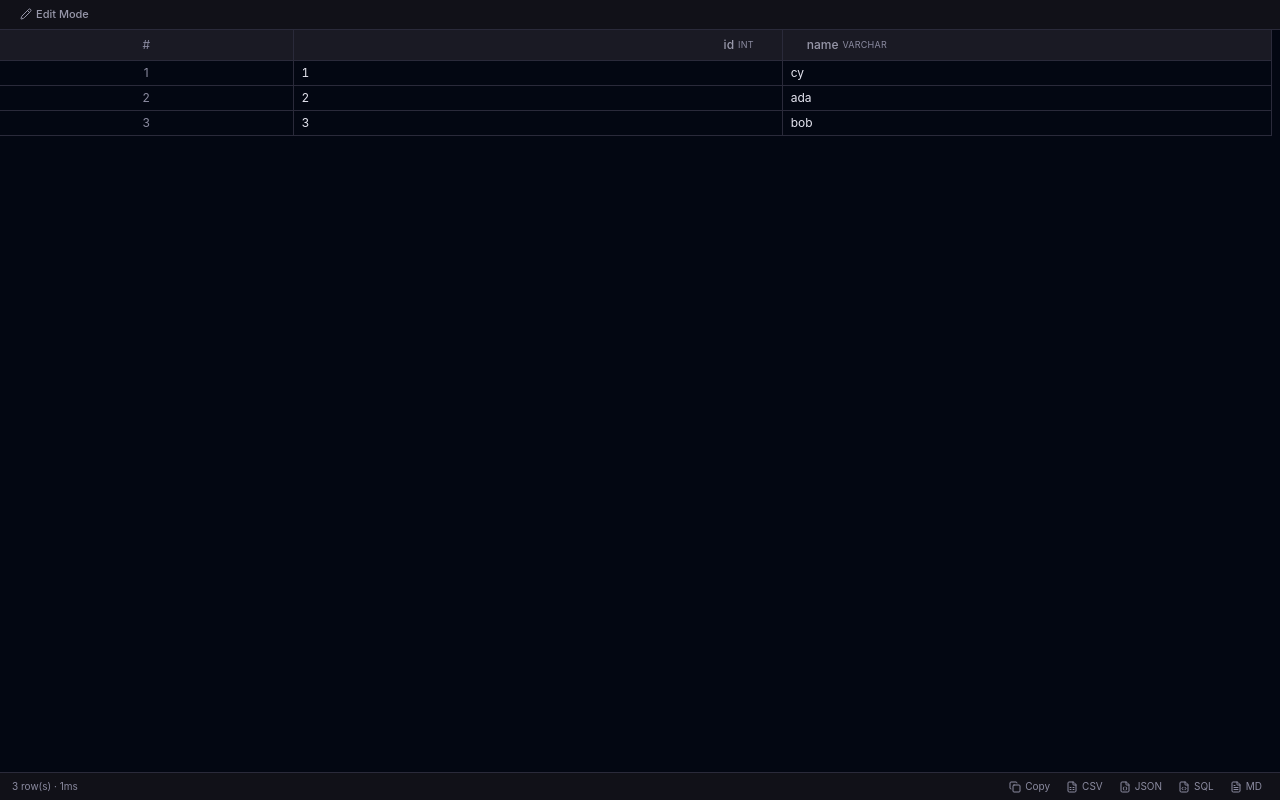
it: the focused cell (#852) › edits the focused cell on Enter or F2 in Edit Mode, and the arrows carry on after
Click the button "Edit Mode" at (54, 14), box [12, 4, 97, 24]
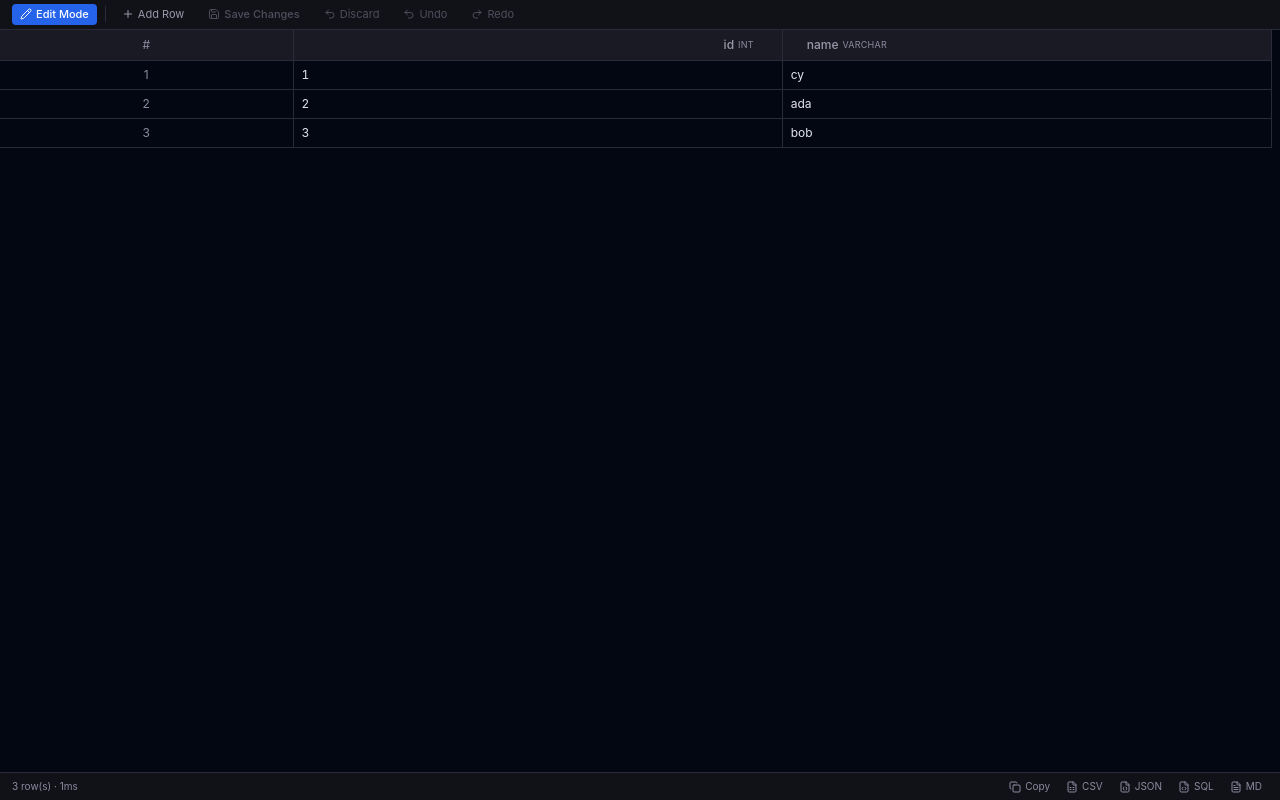
Click the text "ada" at (801, 104), box [791, 96, 812, 112]
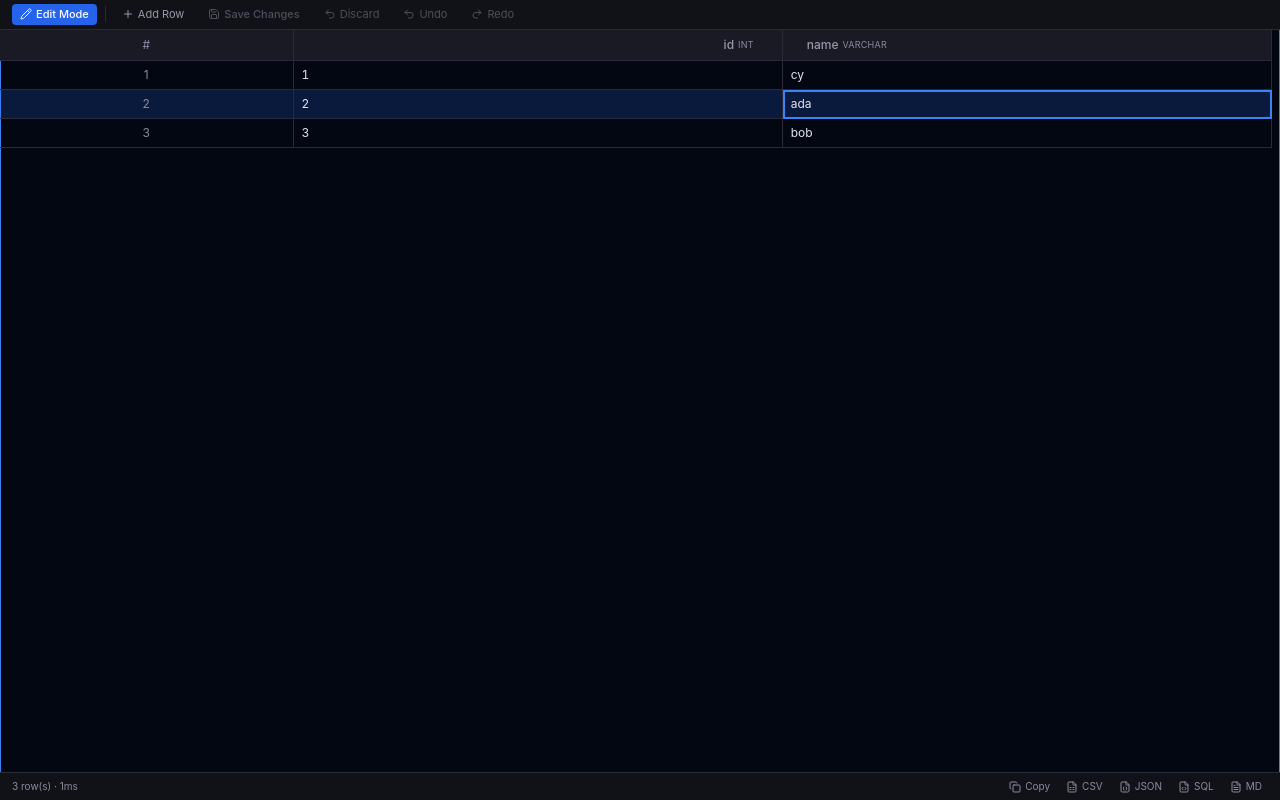
Press Enter in the element named "Query results"
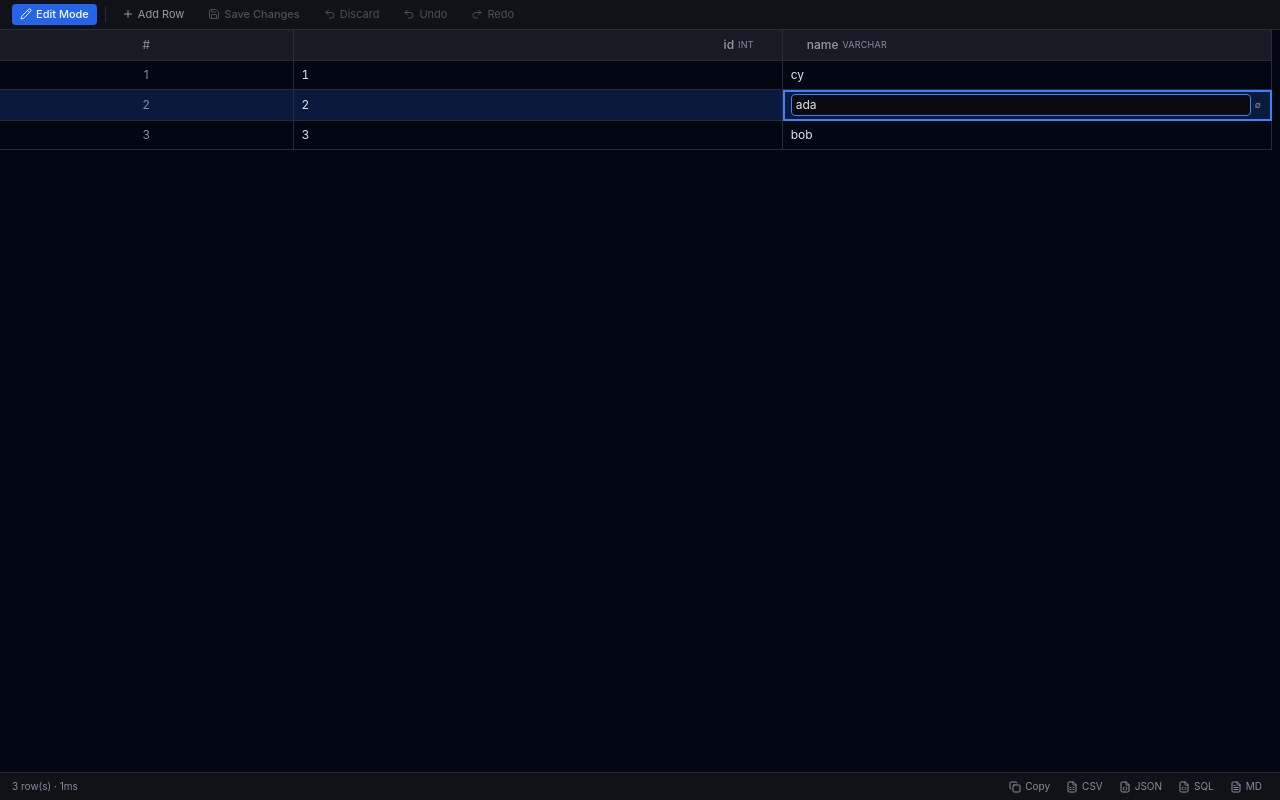
Press Escape in the field showing "ada", box [791, 94, 1251, 116]
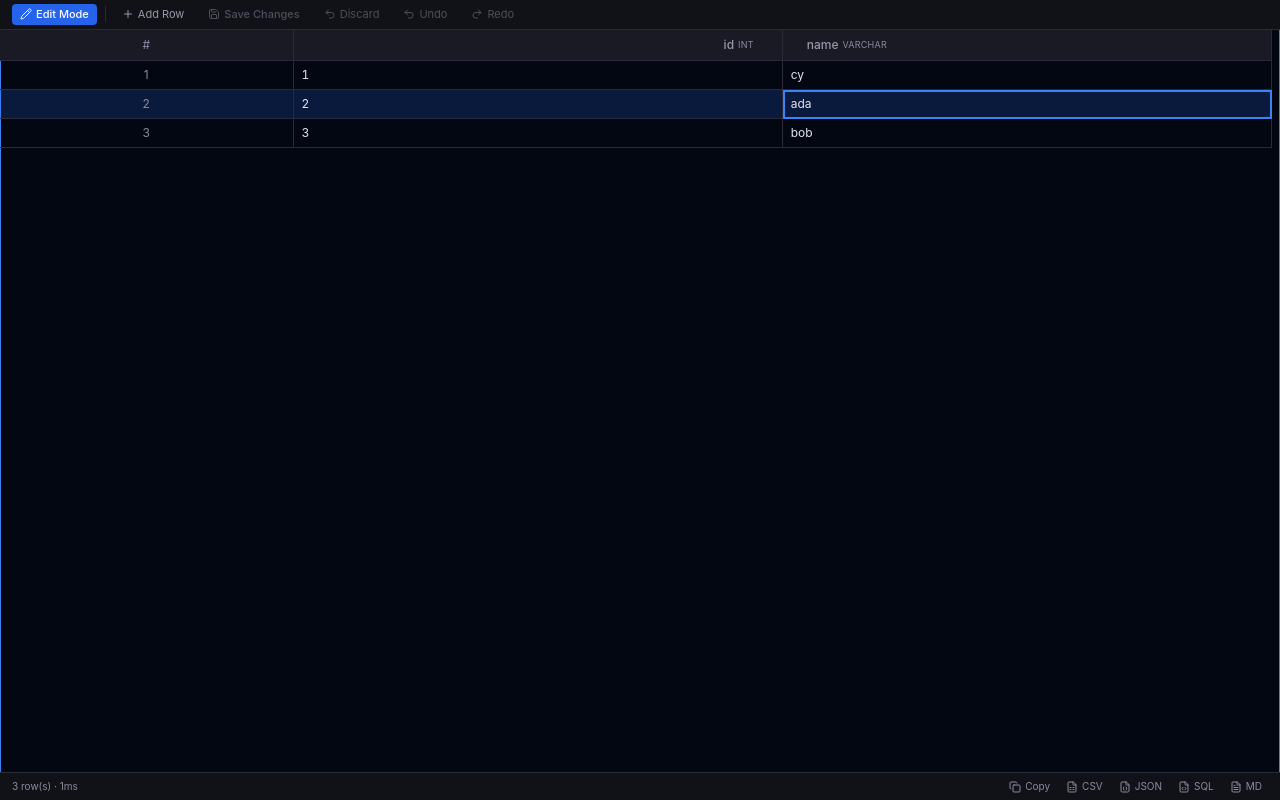
Press ArrowLeft in the element named "Query results"
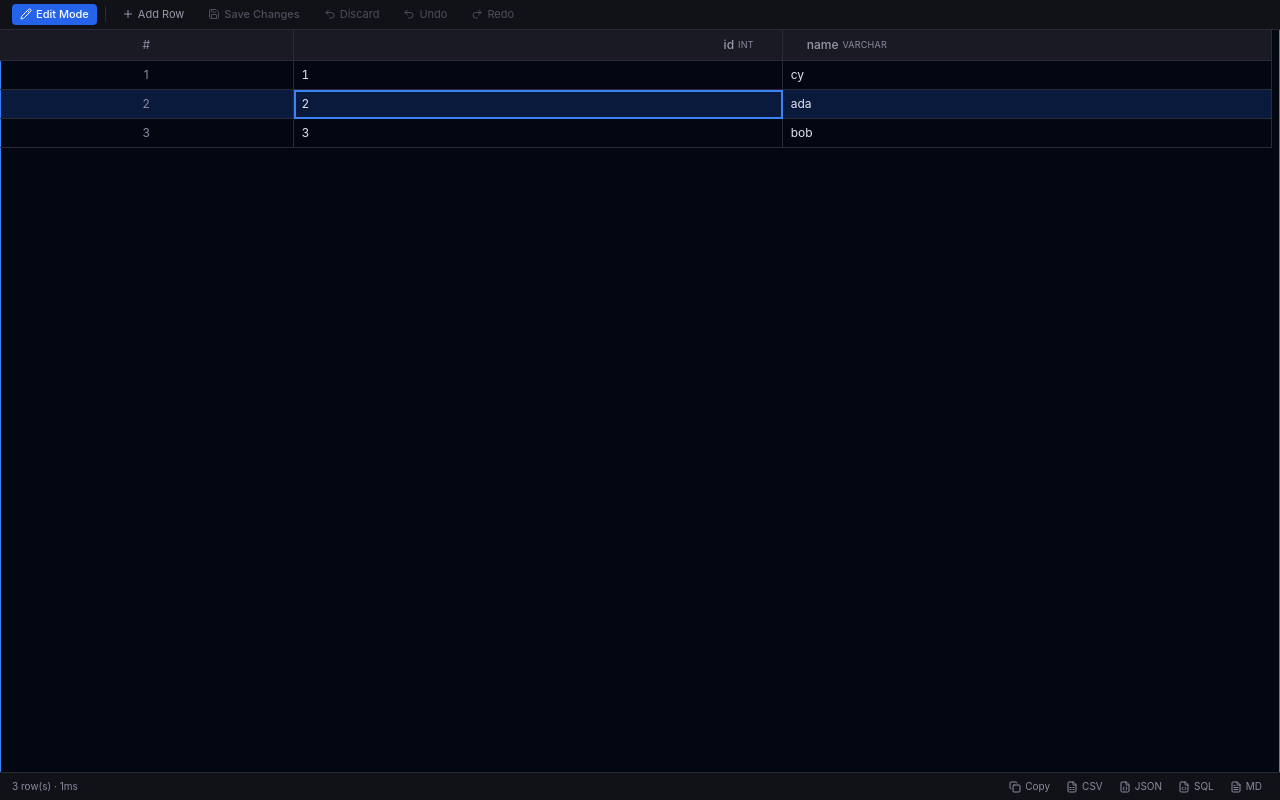
Press F2 in the element named "Query results"
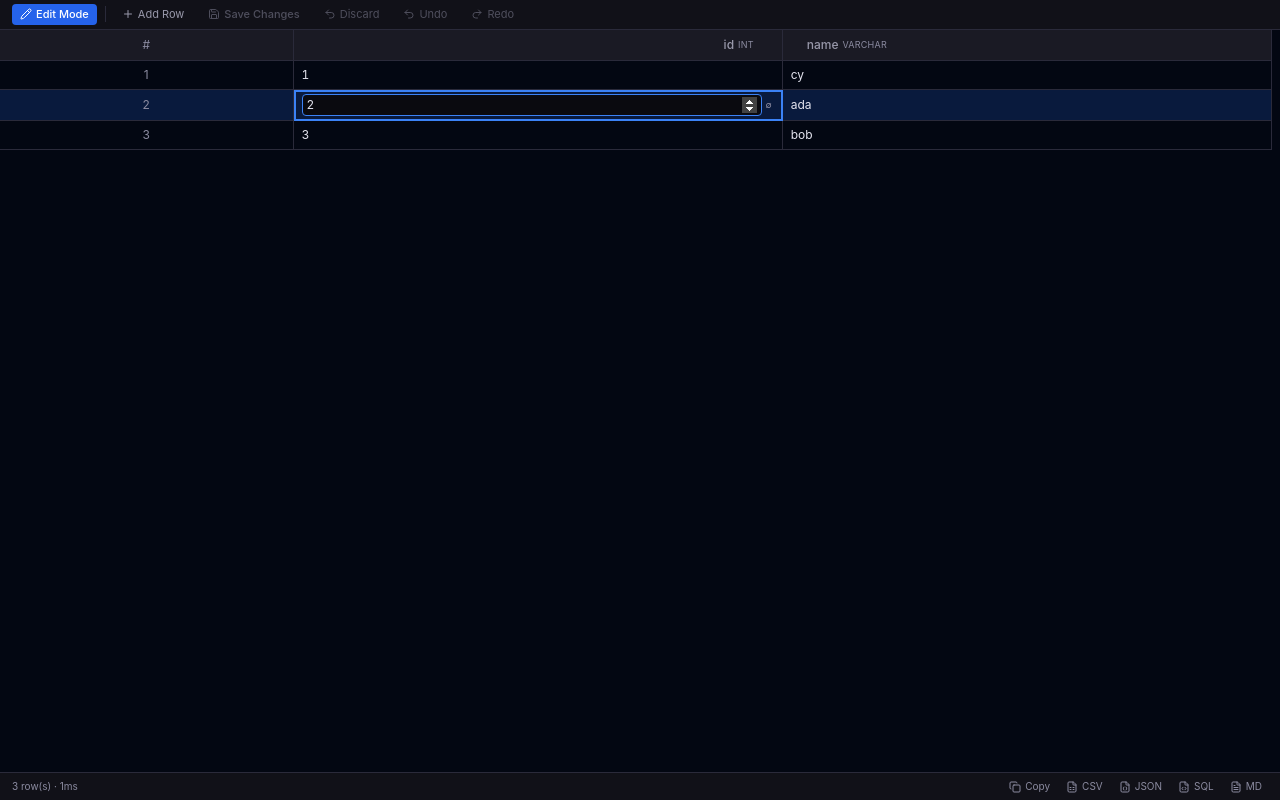
Expected: the number field showing "2" is shown, [302, 94, 762, 116]
